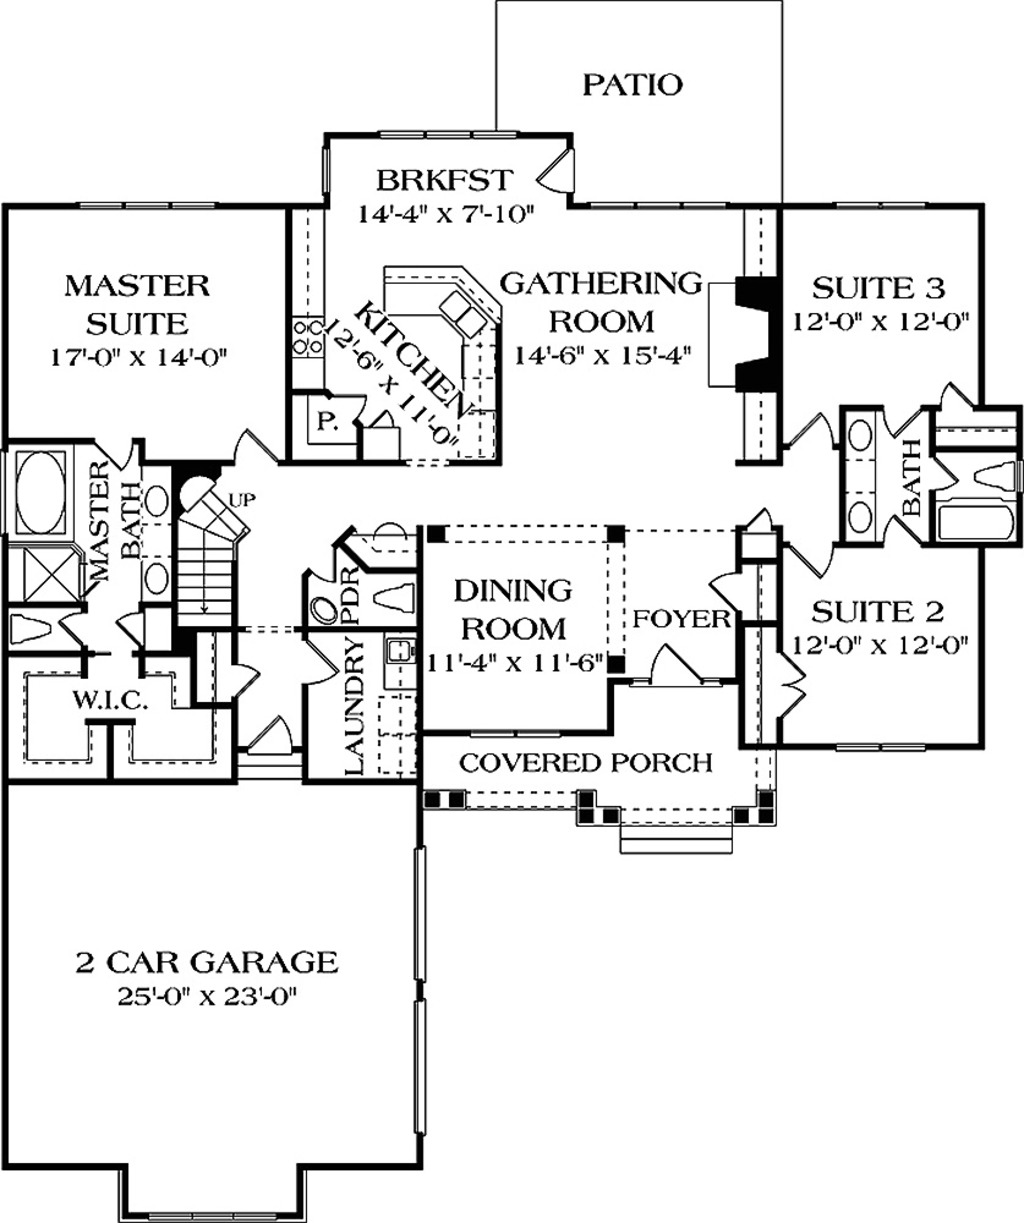door: (637, 646, 707, 693), (235, 716, 310, 757), (535, 137, 586, 193), (773, 650, 808, 723), (788, 527, 829, 584), (297, 633, 340, 686), (229, 427, 278, 469), (82, 435, 135, 474), (873, 399, 925, 439), (303, 540, 348, 584), (57, 597, 91, 654), (746, 501, 791, 542), (701, 569, 742, 616), (788, 410, 837, 449), (882, 514, 925, 554), (225, 652, 259, 699), (920, 457, 969, 489), (116, 610, 152, 652), (329, 388, 367, 423), (937, 376, 971, 412)
large_sink: (7, 593, 56, 650), (369, 574, 423, 620), (969, 454, 1023, 493)
small_sink: (295, 582, 350, 623)
stairs: (180, 486, 297, 620)
tub: (5, 440, 84, 542), (937, 495, 1024, 538)
twin_sink: (435, 280, 490, 344)
window: (573, 182, 731, 214), (820, 189, 935, 220), (80, 191, 222, 216), (374, 116, 533, 137)
